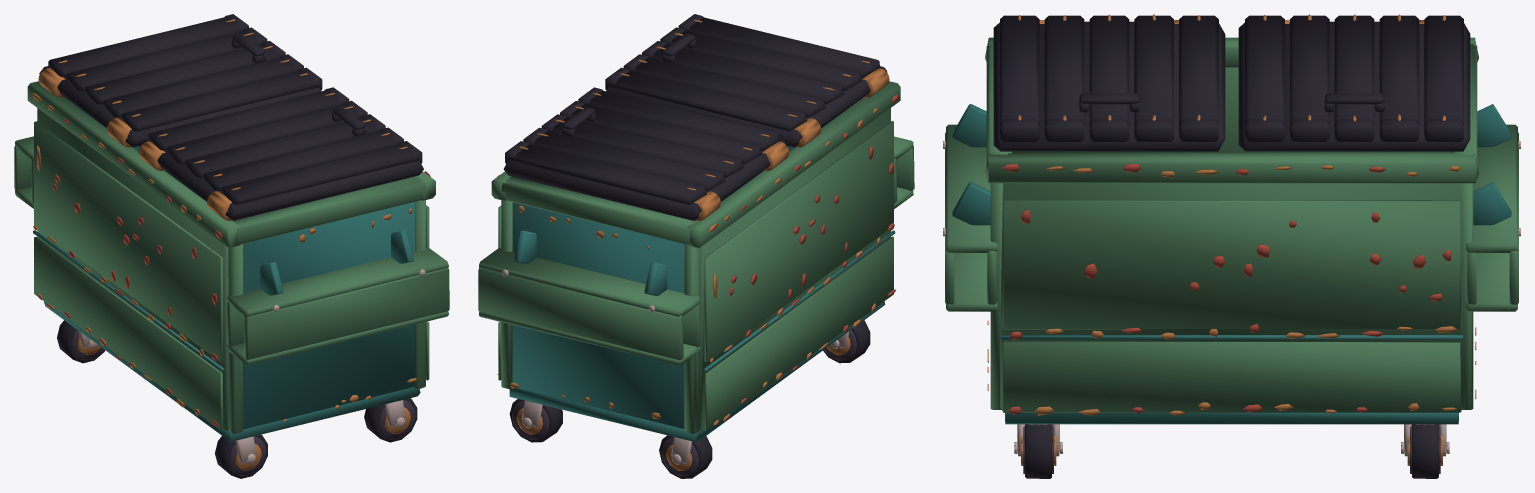
The picture shows the model from 3 angles, left to right: view 1: azimuth 30°, elevation 25°; view 2: azimuth 150°, elevation 25°; view 3: azimuth 270°, elevation 25°; orthographic projection. The views are drawn at different scales.
Parts seen in each view (by area): view 1: body, lidL, lidR, wheelRL, wheelFL, object 1, wheelRR; view 2: body, lidR, lidL, wheelRR, wheelFR, object 1, wheelRL; view 3: body, lidR, lidL, wheelFL, wheelFR, object 1.
Part boxes in pixels (x1=…): body: x1=14, y1=81, x2=449, y2=441; lidL: x1=138, y1=87, x2=423, y2=220; lidR: x1=38, y1=14, x2=322, y2=147; wheelRL: x1=215, y1=434, x2=267, y2=478; wheelFL: x1=364, y1=398, x2=417, y2=442; object 1: x1=78, y1=331, x2=405, y2=463; wheelRR: x1=57, y1=320, x2=105, y2=363; body: x1=478, y1=81, x2=914, y2=442; lidR: x1=503, y1=87, x2=789, y2=221; lidL: x1=605, y1=14, x2=889, y2=147; wheelRR: x1=659, y1=435, x2=712, y2=478; wheelFR: x1=509, y1=399, x2=562, y2=442; object 1: x1=521, y1=331, x2=849, y2=463; wheelRL: x1=823, y1=320, x2=870, y2=363; body: x1=943, y1=37, x2=1520, y2=424; lidR: x1=1238, y1=14, x2=1470, y2=151; lidL: x1=993, y1=14, x2=1225, y2=151; wheelFL: x1=1018, y1=424, x2=1059, y2=478; wheelFR: x1=1404, y1=424, x2=1445, y2=478; object 1: x1=1014, y1=424, x2=1449, y2=454.
Size of the model in its own units: 1.37 by 1.87 by 2.63.
